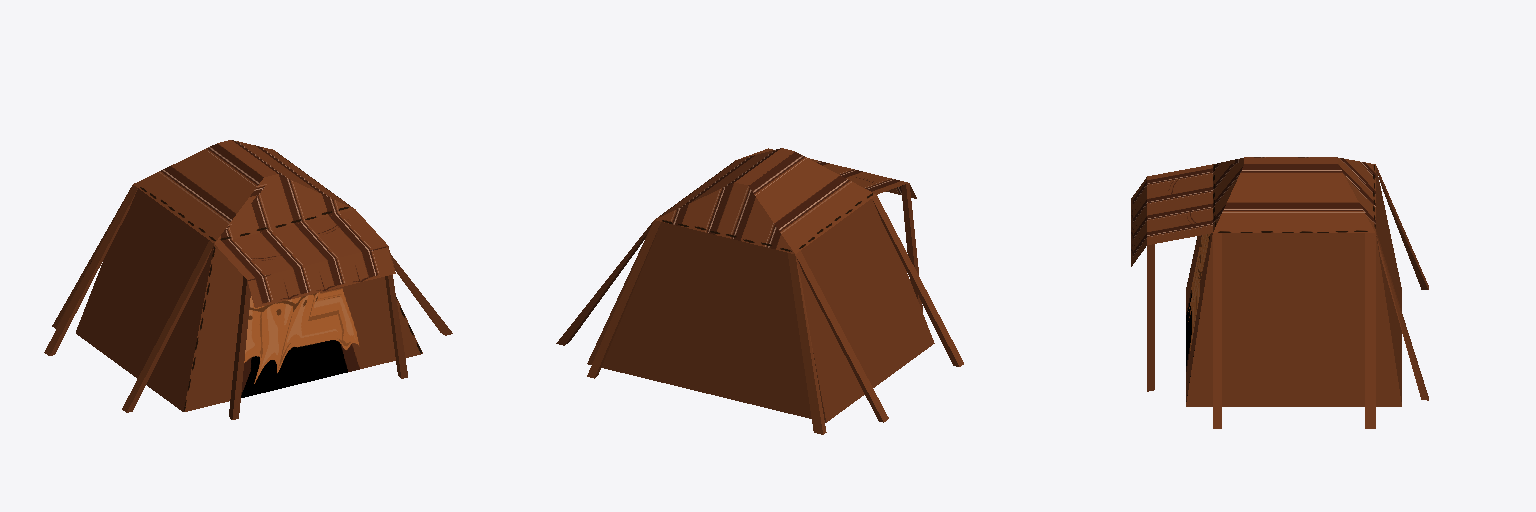
3 renders of one model, left to right at view 1: azimuth 30°, elevation 25°; view 2: azimuth 150°, elevation 25°; view 3: azimuth 270°, elevation 25°, orthographic.
Parts seen in each view (by area): view 1: Cube.001_Cube.012; view 2: Cube.001_Cube.012; view 3: Cube.001_Cube.012.
Part boxes in pixels (bbox=[...]): Cube.001_Cube.012: bbox=[44, 140, 452, 419]; Cube.001_Cube.012: bbox=[556, 148, 963, 434]; Cube.001_Cube.012: bbox=[1131, 157, 1428, 428].
Bounding box in the file's own units: 1.84 × 1.01 × 1.45.
Materials: 1 (1 with a texture image).